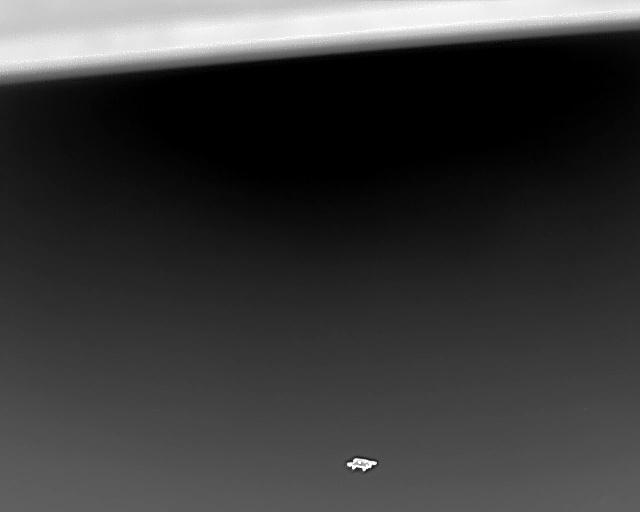fpv-drone: (346, 457, 377, 471)
